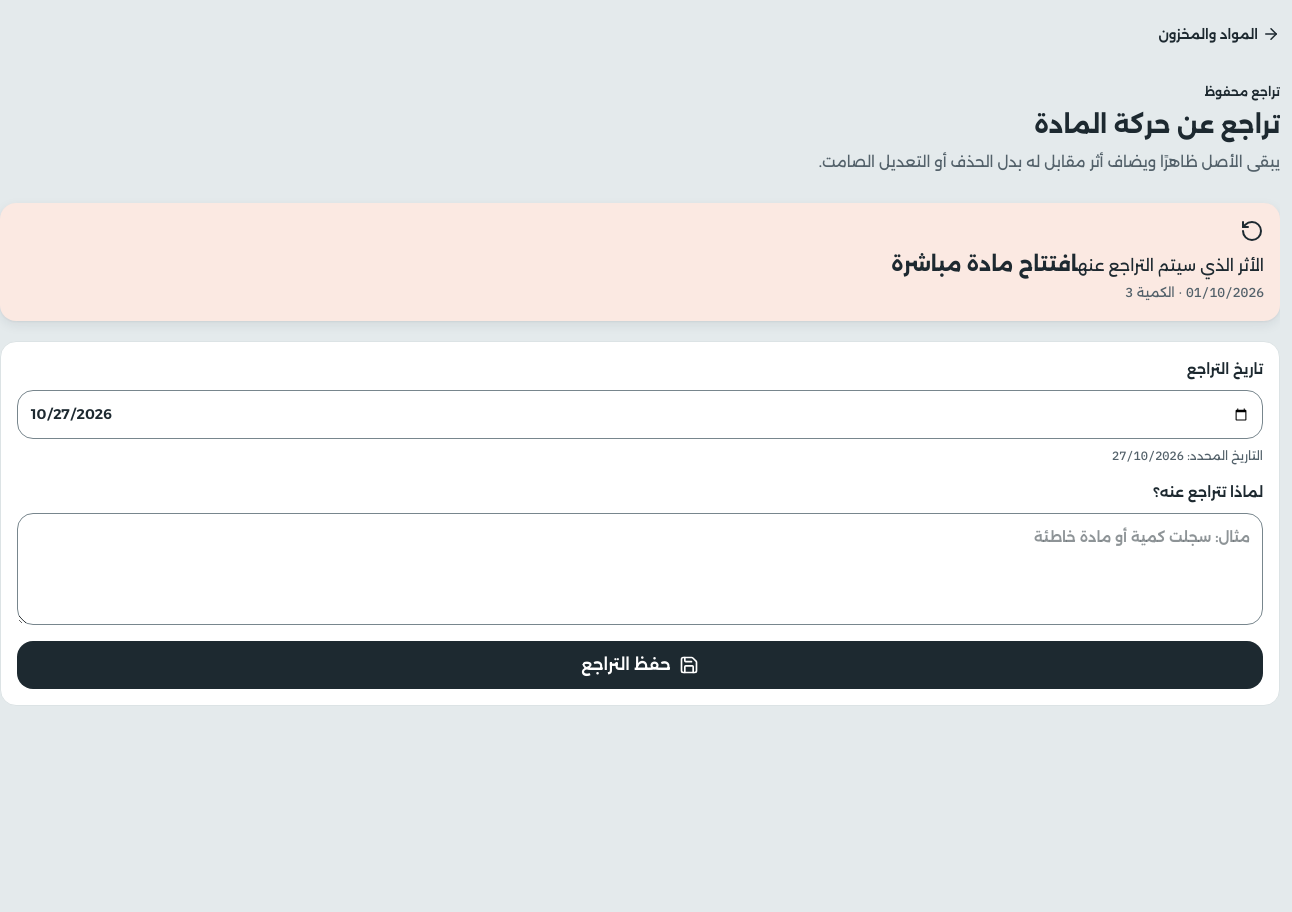
Test: InventoryReversalEditor — direct page-boundary behavior (R9-W3 + R9 continuation) › requires a reason before any reversal is written (the error is announced as an alert)
Expected: the text box is shown, [17,513,1263,625]
Click the button "حفظ التراجع" at (640, 665), box [17,641,1263,689]
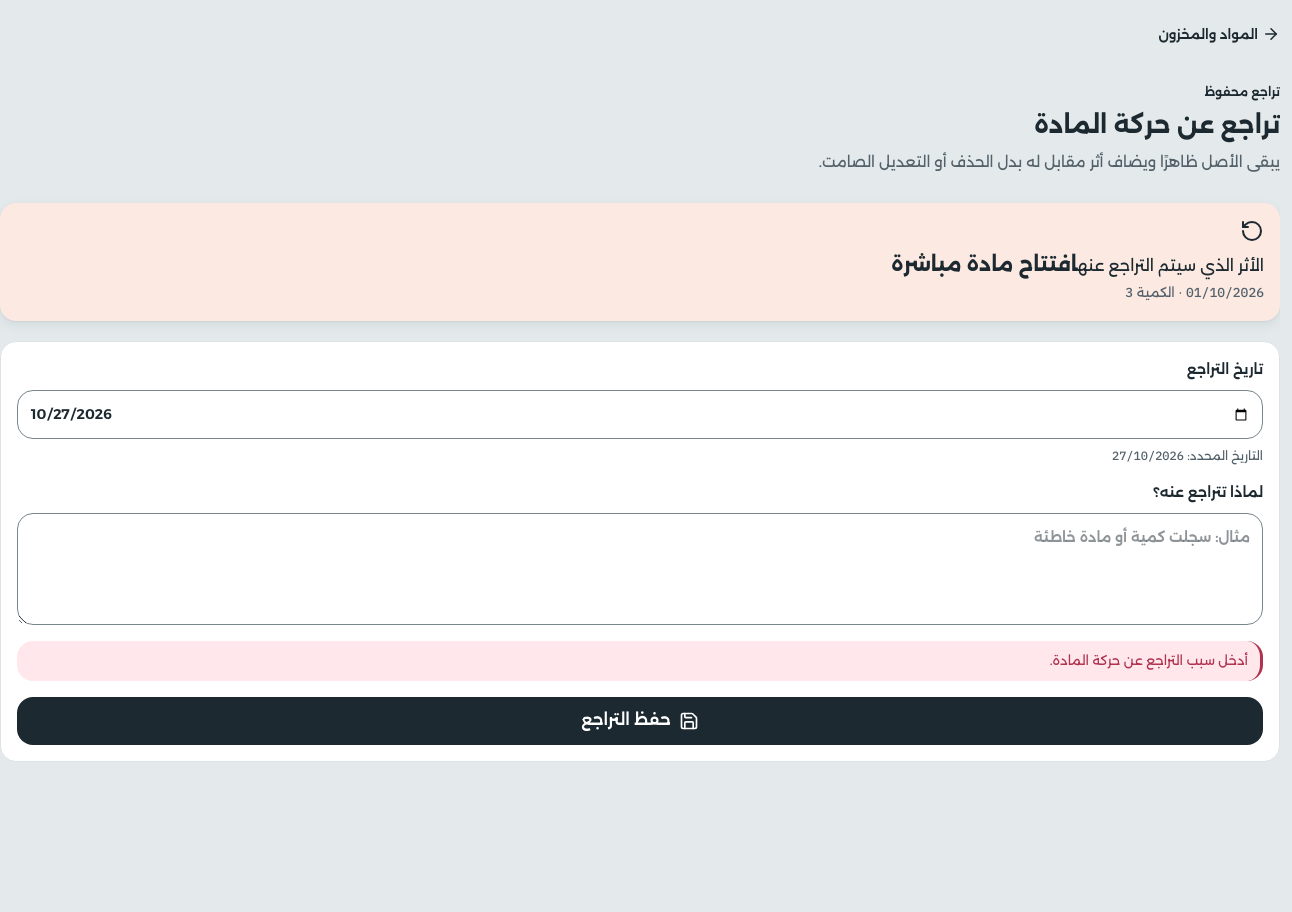
Result: the text "أدخل سبب التراجع عن حركة المادة." is shown at [17,641,1263,681]
